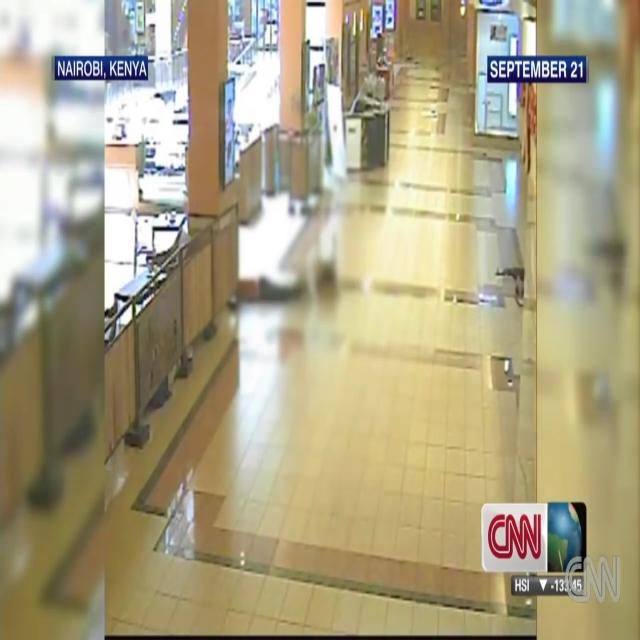Weapon: (493, 248, 540, 302)
